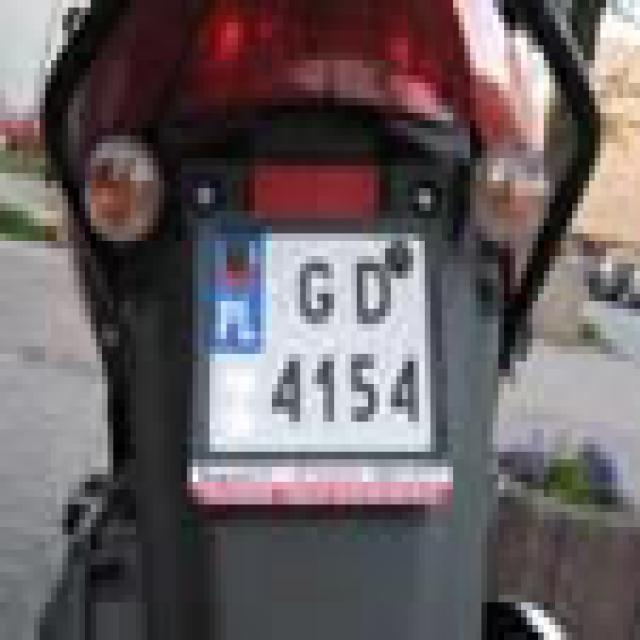pl_license_plate: (198, 226, 425, 444)
